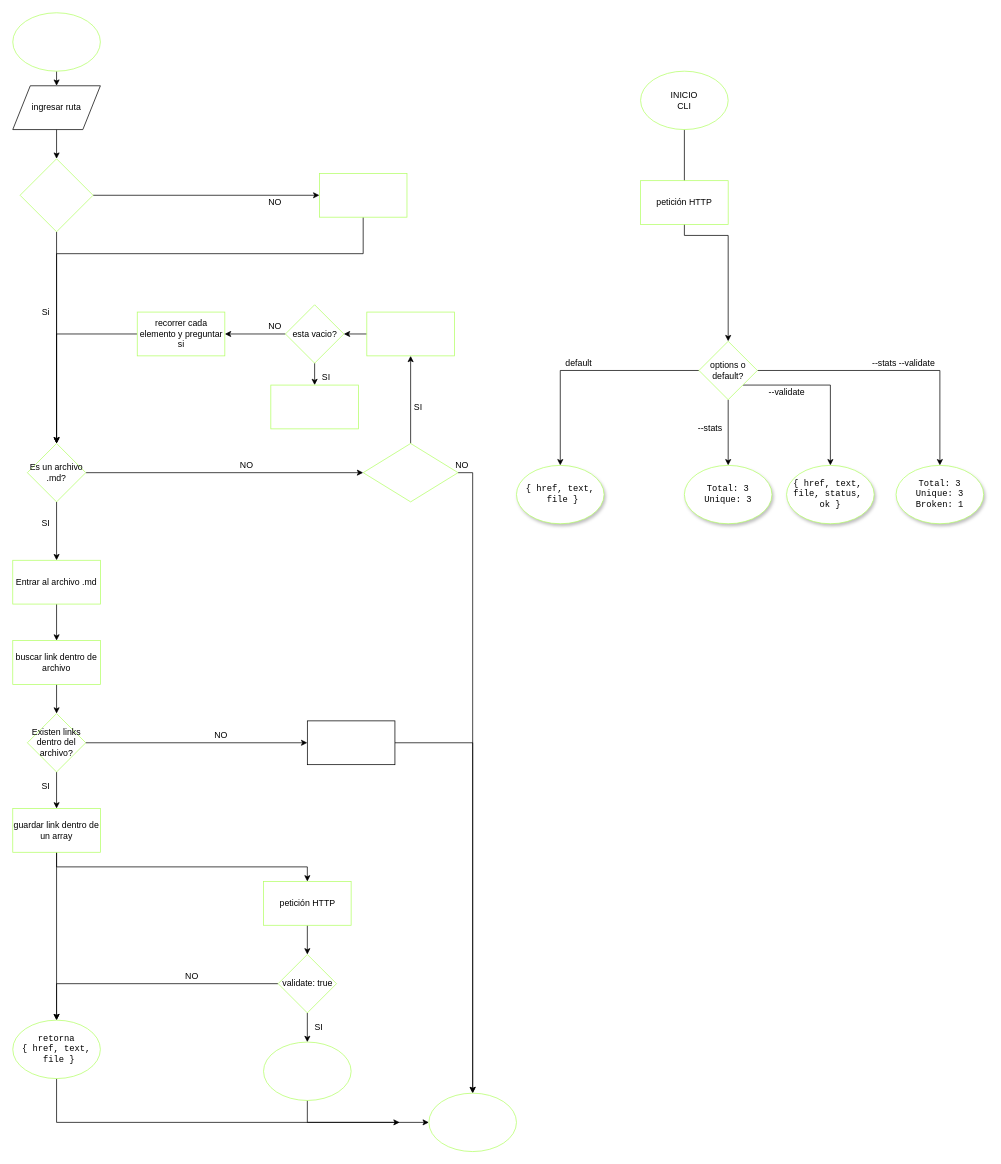
This 1001x1164 diagram has some shape labels left out. Here are the shapes that lost their labels. From the top down, the centre of each, then its label:
At point (56, 41): "INICIO API".
At point (56, 195): "Es una ruta absoluta?".
At point (363, 195): "Convertir en absoluta".
At point (410, 333): "entrar al directorio y buscar cada archivo".
At point (314, 406): "Mensaje de que directorio esta vacio".
At point (410, 472): "Es un directorio?".
At point (351, 742): "Mostrar mensaje de que no existen links o mostrar un array vacio".
At point (307, 1070): "retorna { href, text, file, status, ok }".
At point (472, 1122): "FIN".
